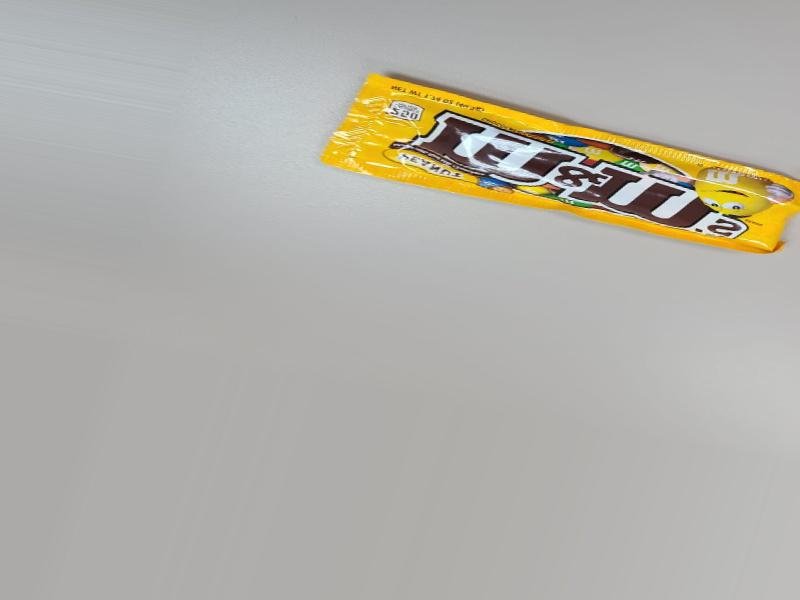m&m: (289, 44, 781, 281)
